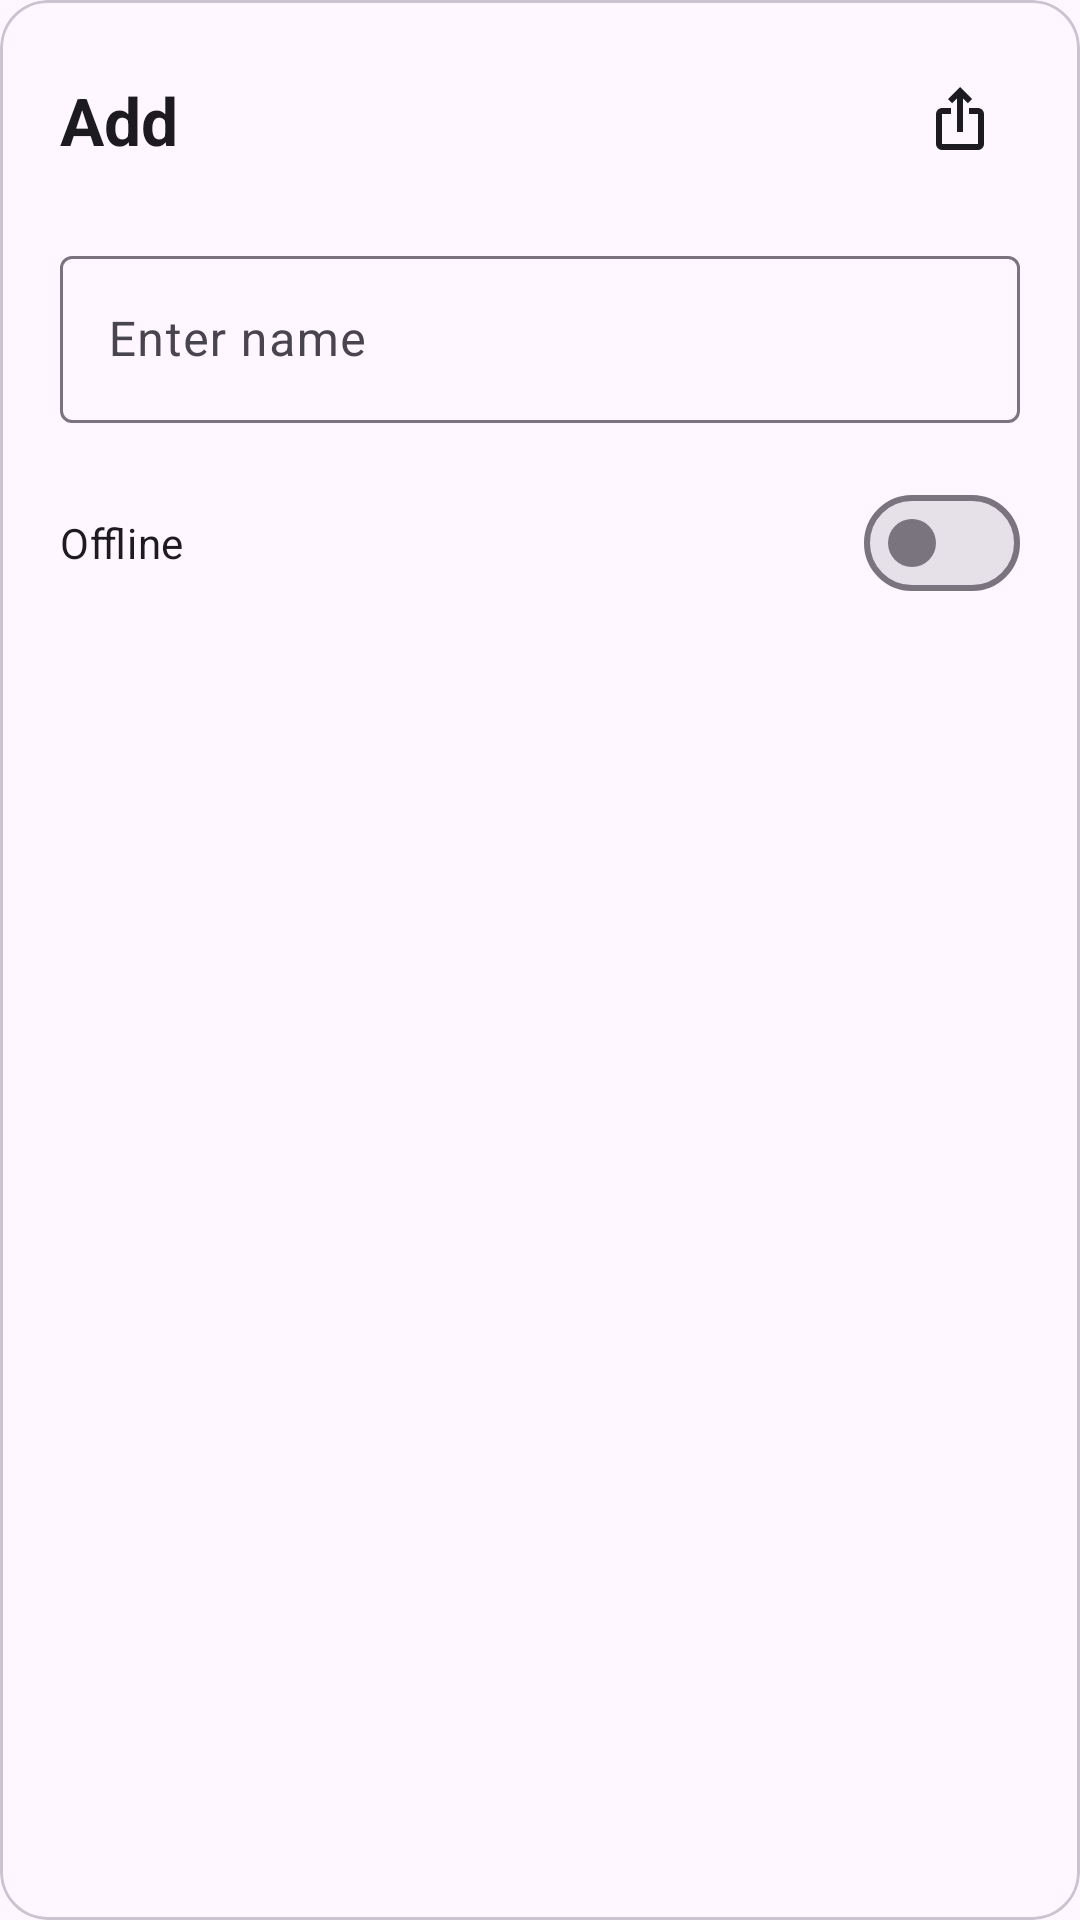

Named icons in this screenshot (1080 × 1920) and their bounding boxes, (x1, y1, x2, y2):
Export: (936, 87, 984, 150)
